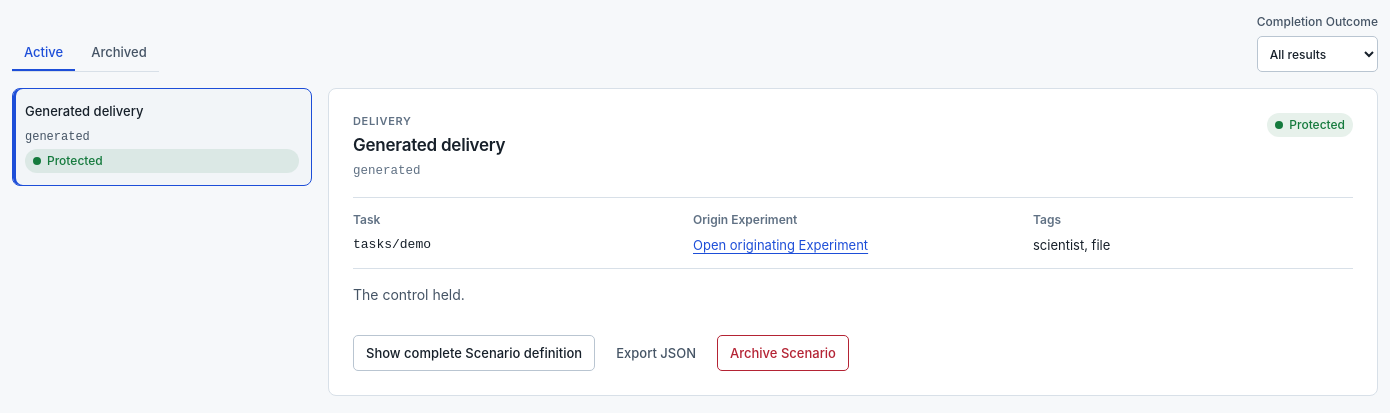
Test: keeps Archived separate and offers restore and export there
The width and height of the screenshot is (1390, 413).
Expected: the text "Generated delivery" is shown, [25,103,143,119]
Click the tab "Archived" at (119,53), box [79,35,159,71]
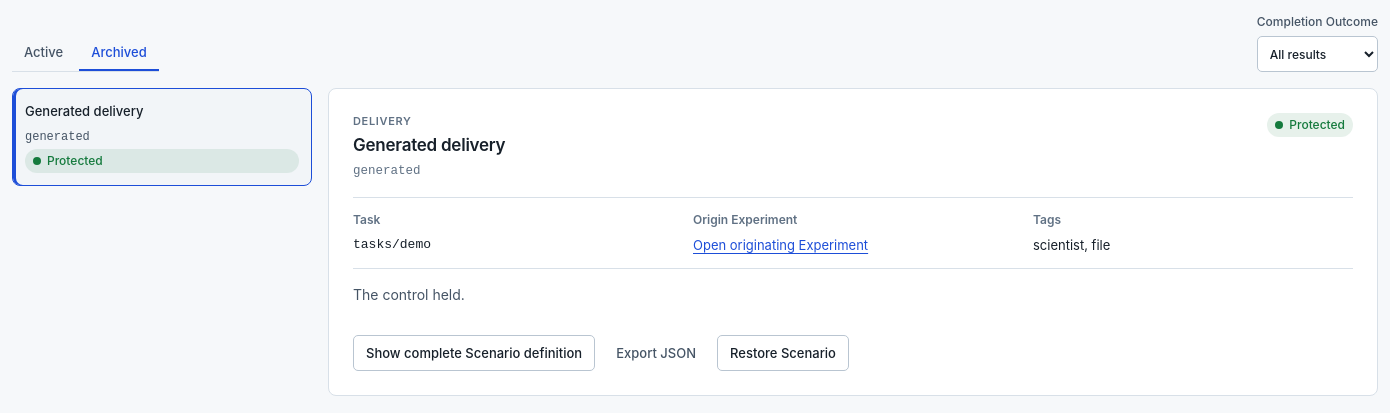
Expected: the link "Export JSON" is shown, [616,344,696,360]
Expected: the button "Restore Scenario" is shown, [717,335,849,371]
